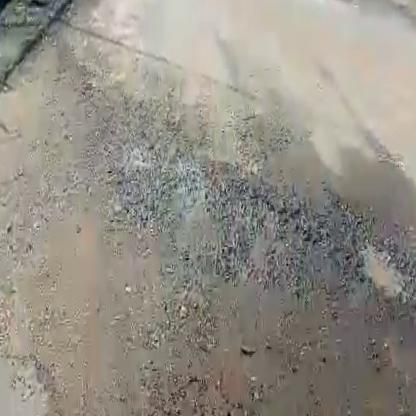pothole: (360, 234, 409, 301)
